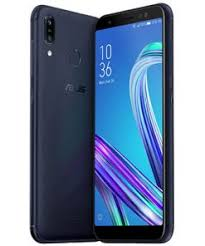asus: (89, 1, 177, 244), (26, 2, 94, 244)
